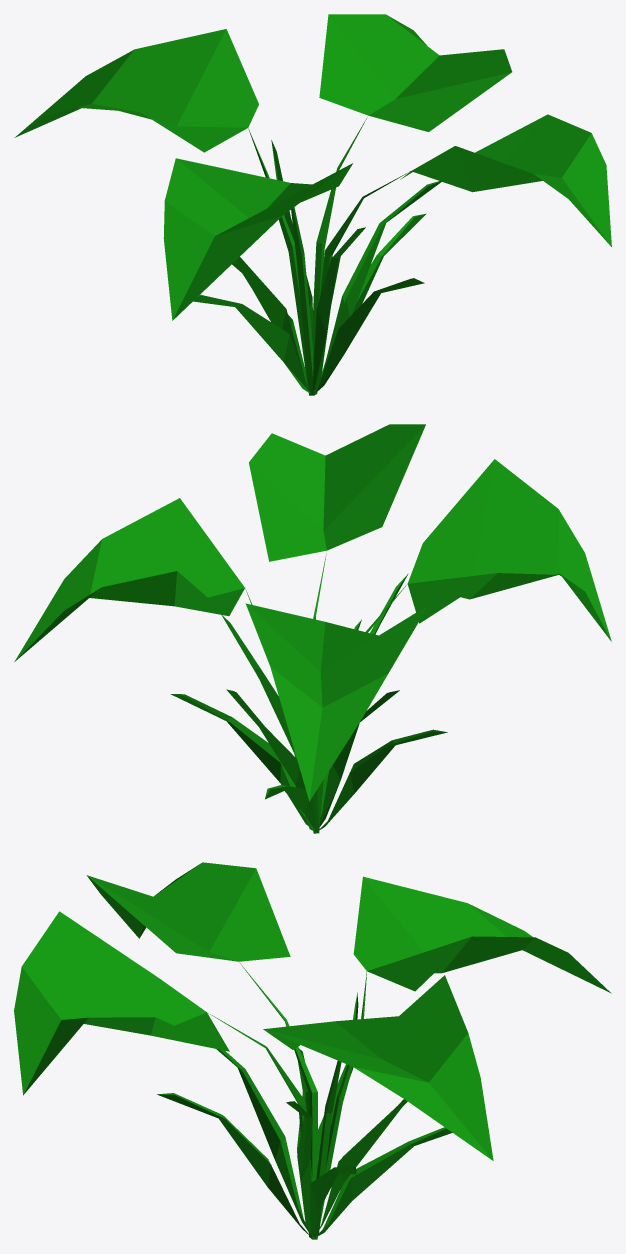
The model's file is plant_2.glb.
The picture shows the model from 3 angles, top to bottom: view 1: azimuth 30°, elevation 25°; view 2: azimuth 150°, elevation 25°; view 3: azimuth 270°, elevation 25°; orthographic projection. The views are drawn at different scales.
Parts seen in each view (by area): view 1: Plane.010; view 2: Plane.010; view 3: Plane.010.
Part boxes in pixels (left/top/right/bottom): Plane.010: left=14, top=14, right=611, bottom=395; Plane.010: left=14, top=424, right=611, bottom=833; Plane.010: left=14, top=862, right=611, bottom=1239.
Bounding box in the file's own units: 4.38 × 3.09 × 5.02.
